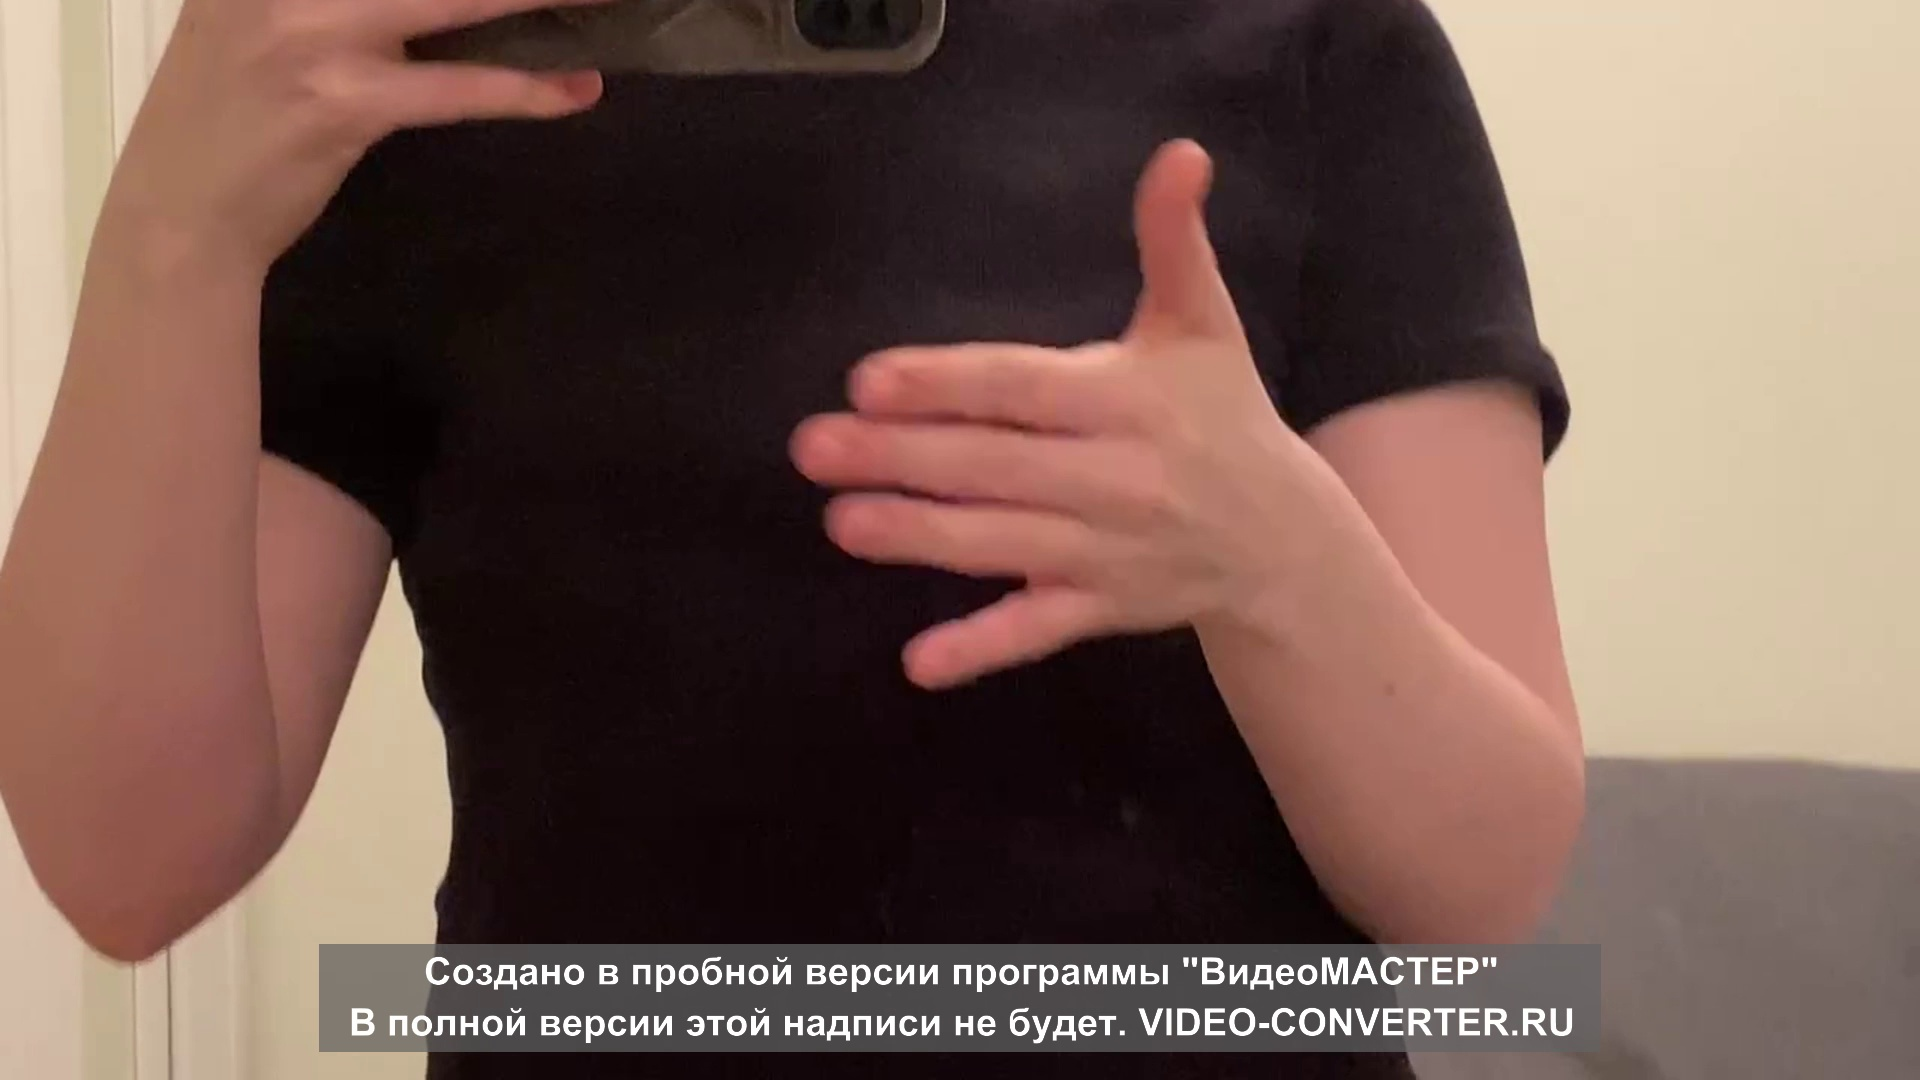Кисть: (793, 133, 1262, 688)
